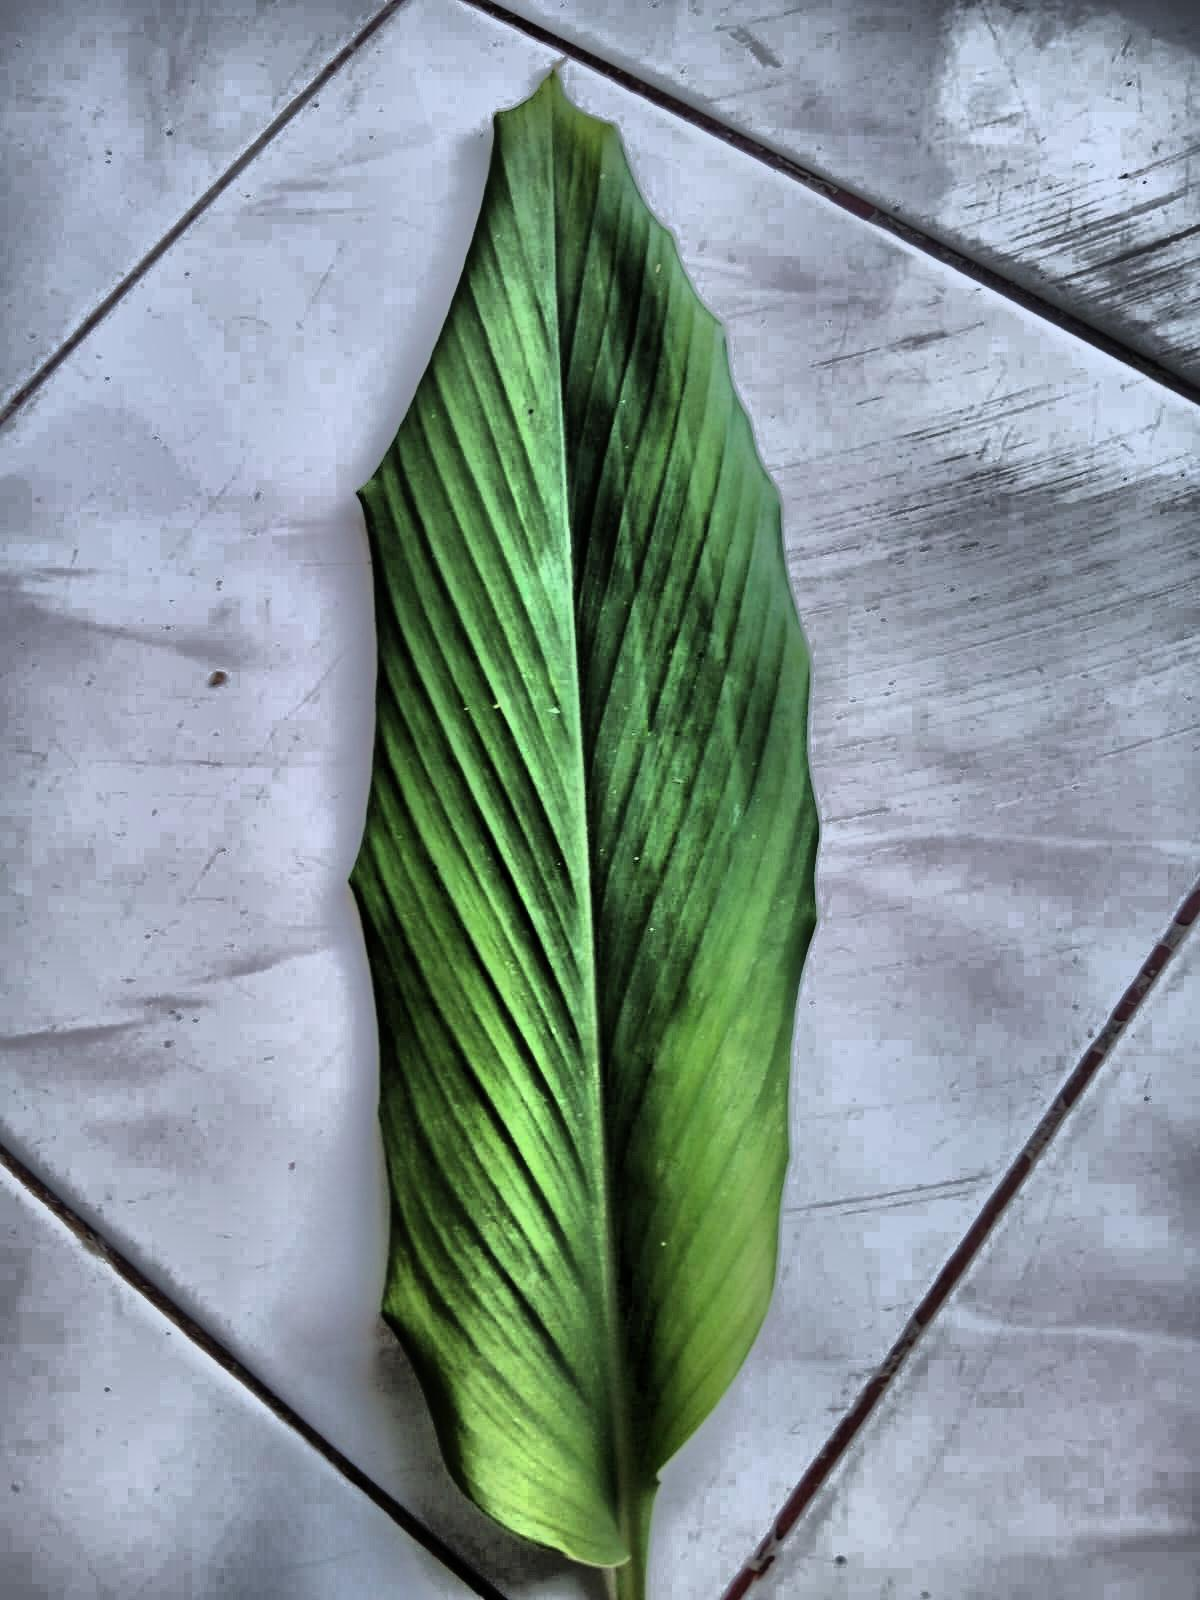daun kunyit: (350, 74, 818, 1599)
